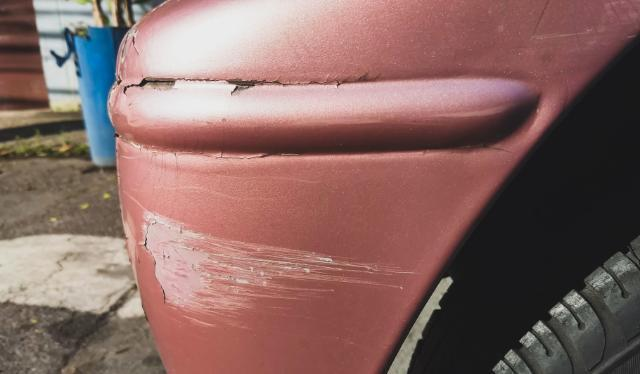Bumper: (93, 21, 474, 366)
